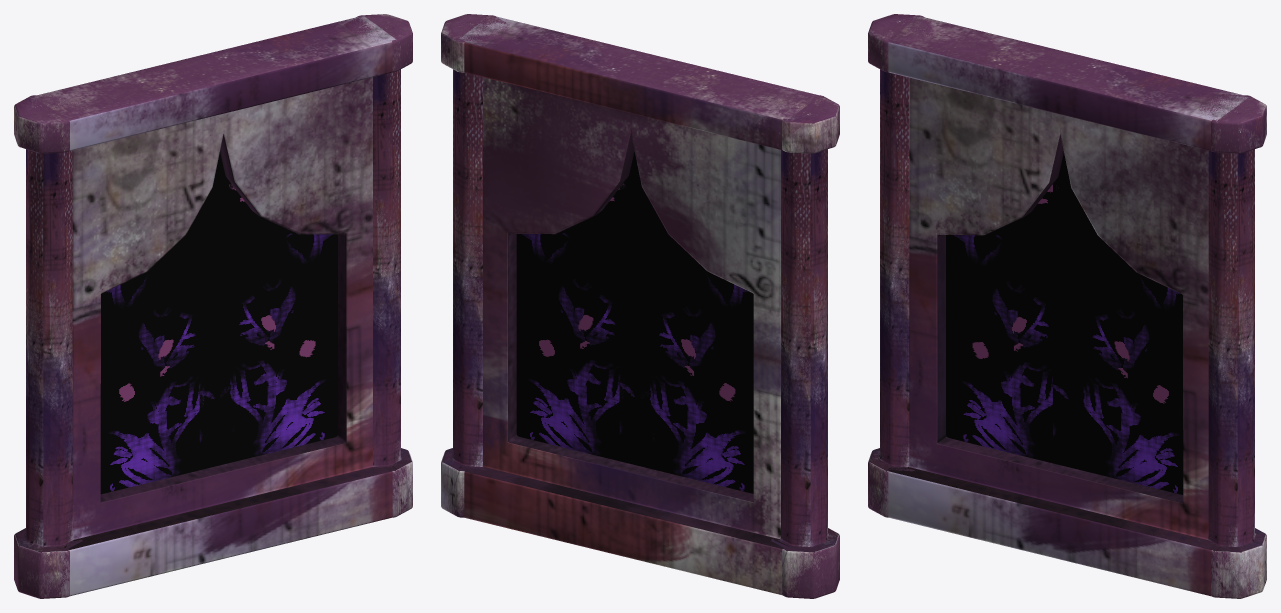
File: MANOR_WINDOW_2_002.obj
The picture shows the model from 3 angles, left to right: view 1: azimuth 30°, elevation 25°; view 2: azimuth 150°, elevation 25°; view 3: azimuth 330°, elevation 25°; orthographic projection.
Parts seen in each view (by area): view 1: MANOR_WINDOW_2_002; view 2: MANOR_WINDOW_2_002; view 3: MANOR_WINDOW_2_002.
Part boxes in pixels (left/top/right/bottom): MANOR_WINDOW_2_002: left=14, top=14, right=412, bottom=598; MANOR_WINDOW_2_002: left=441, top=14, right=839, bottom=598; MANOR_WINDOW_2_002: left=868, top=14, right=1266, bottom=598.
Bounding box in the file's own units: 2.57 × 3 × 0.4135.
